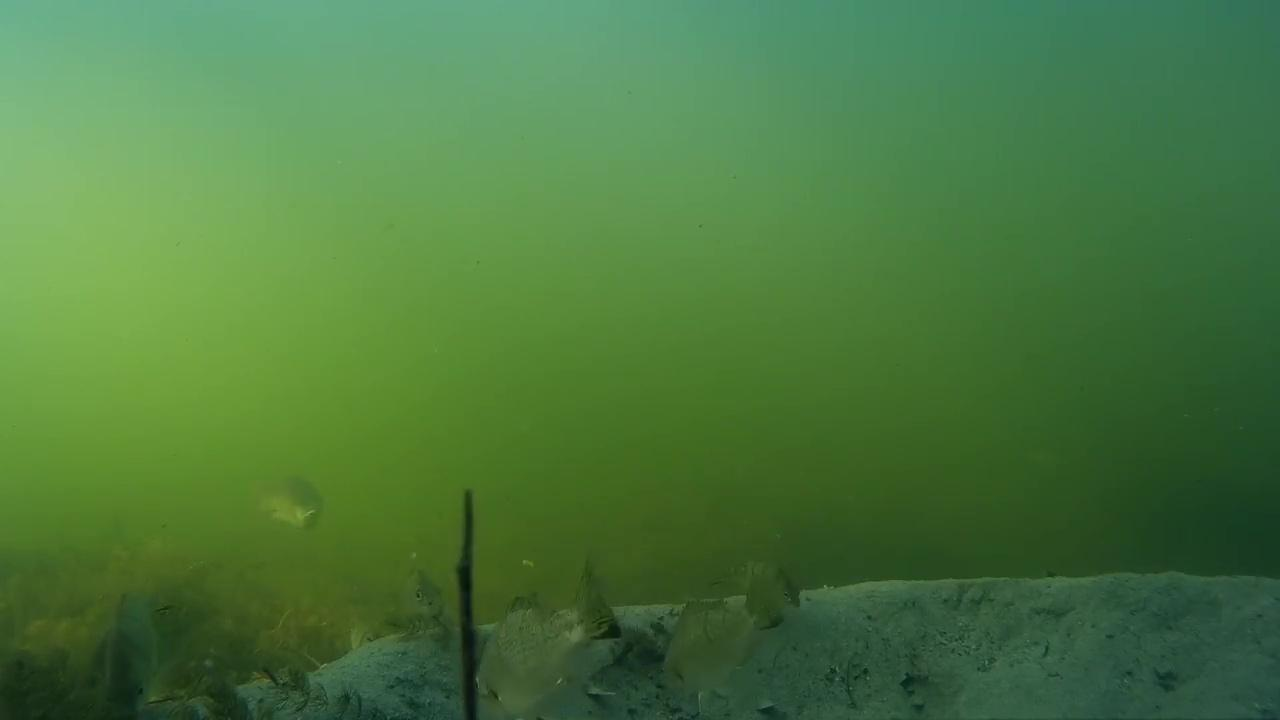Tilapia: (239, 474, 333, 532)
